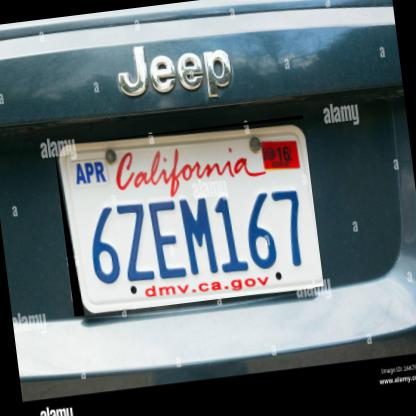Plates: (53, 115, 324, 317)
